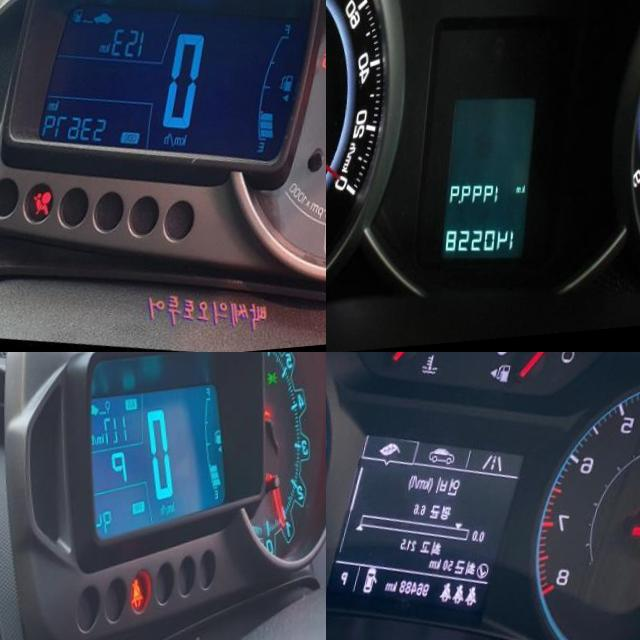SideLamp: (271, 376, 283, 393)
